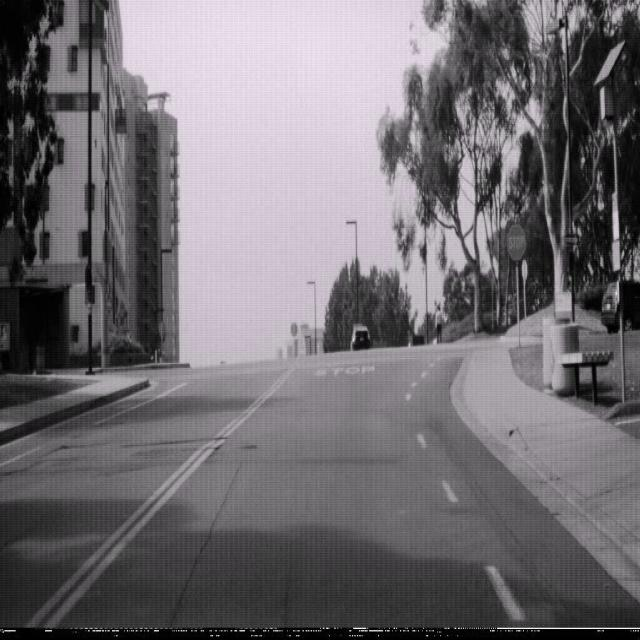stop_sign: (506, 222, 526, 261)
